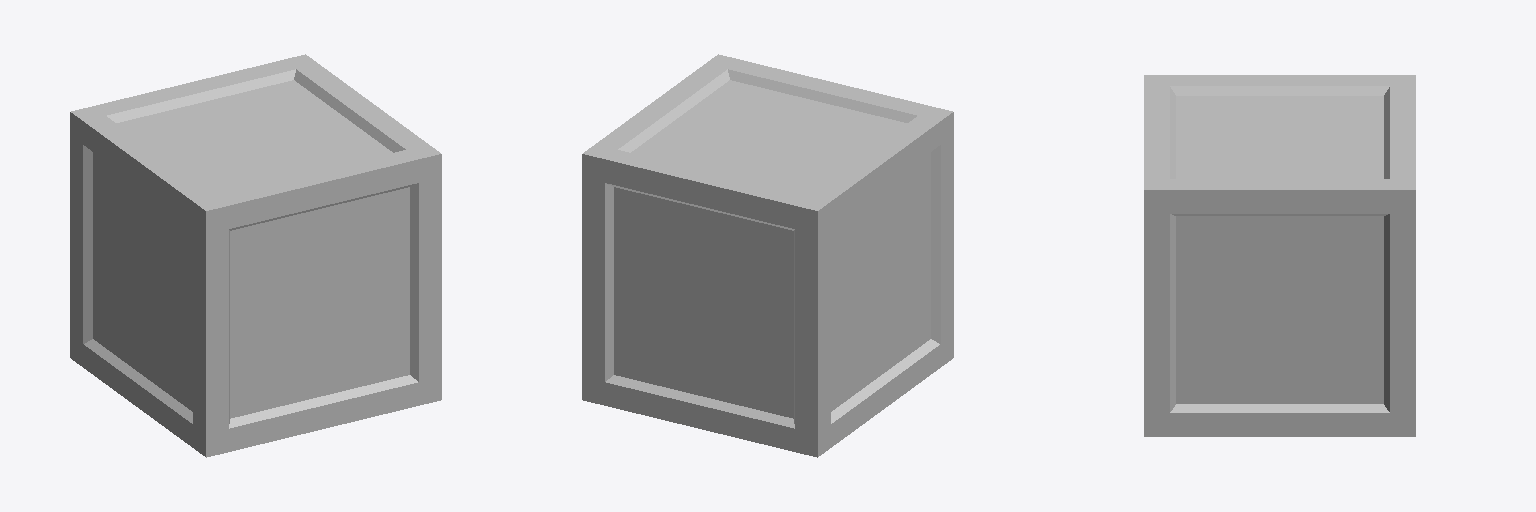
Rendered from superbox_blue.obj.
3 renders of one model, left to right at view 1: azimuth 30°, elevation 25°; view 2: azimuth 150°, elevation 25°; view 3: azimuth 270°, elevation 25°, orthographic.
Parts seen in each view (by area): view 1: blue_export_Cube.003; view 2: blue_export_Cube.003; view 3: blue_export_Cube.003.
Part boxes in pixels (x1,y1,x2,y2): blue_export_Cube.003: (70, 54, 441, 457); blue_export_Cube.003: (582, 54, 953, 457); blue_export_Cube.003: (1144, 75, 1415, 436).
Size of the model in its own units: 1 by 1 by 1.